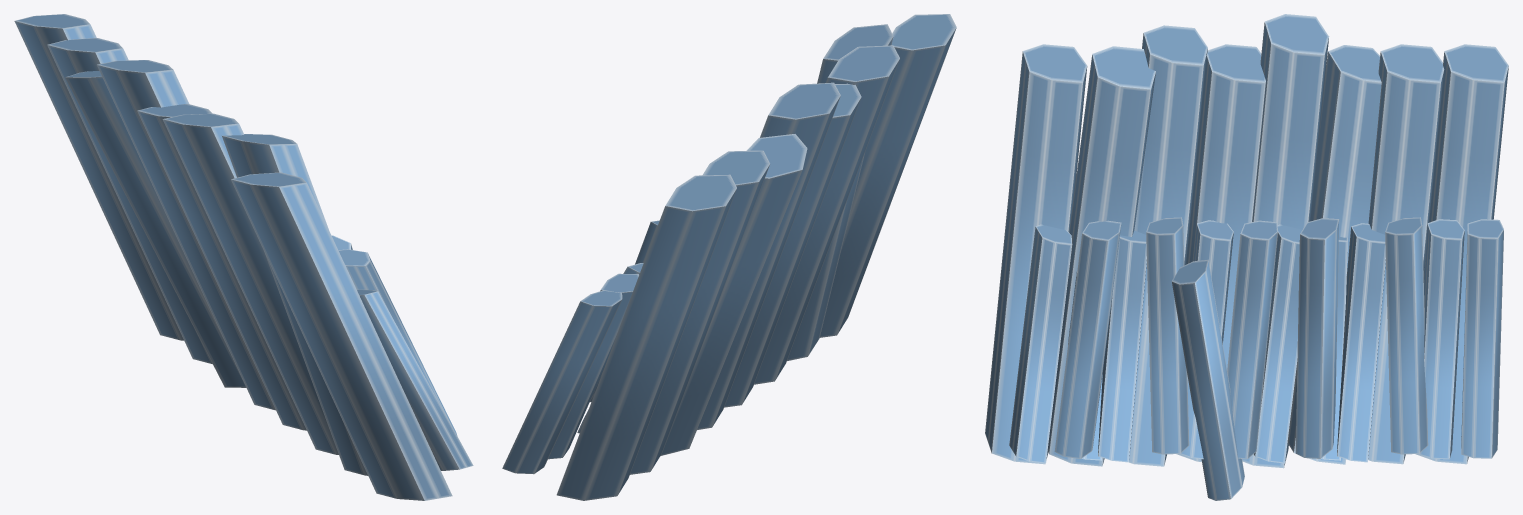
Rendered from wall_crystal_pipes_10.fbx.
The picture shows the model from 3 angles, left to right: view 1: azimuth 30°, elevation 25°; view 2: azimuth 150°, elevation 25°; view 3: azimuth 270°, elevation 25°; orthographic projection. The views are drawn at different scales.
Parts seen in each view (by area): view 1: wall_crystal_pipes_10; view 2: wall_crystal_pipes_10; view 3: wall_crystal_pipes_10.
Boxes of the visible parts, x1,y1,x2,y2 form: wall_crystal_pipes_10: (14, 14, 473, 500); wall_crystal_pipes_10: (502, 14, 956, 500); wall_crystal_pipes_10: (985, 14, 1508, 500).
Size of the model in its own units: 0.6965 by 0.9826 by 1.25.
1 material, 1 textured.
